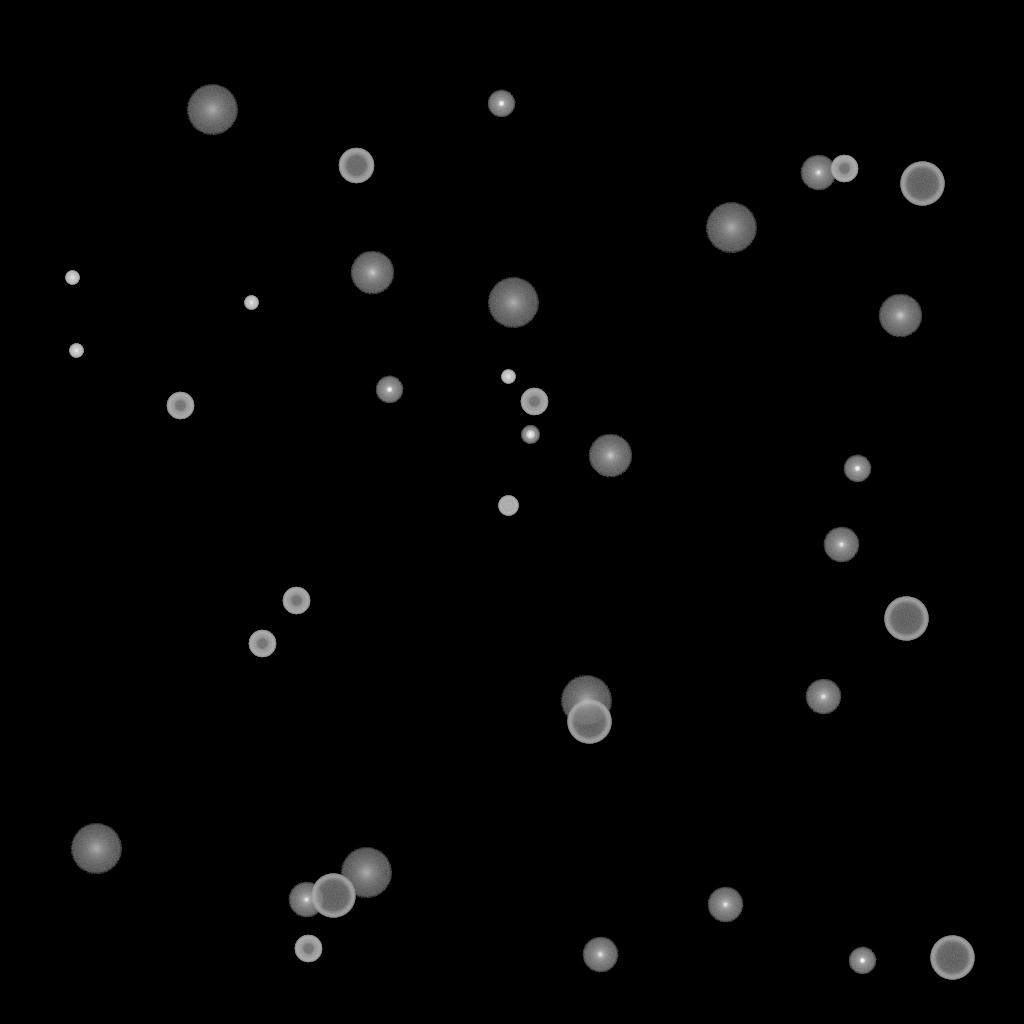depth:-10: (843, 455, 871, 483), (487, 90, 515, 118), (848, 947, 876, 975), (375, 376, 403, 404)
depth:-20: (521, 426, 539, 444)
depth:-30: (501, 370, 515, 384), (65, 271, 79, 285), (69, 344, 83, 358), (244, 296, 258, 310)
depth:-40: (498, 496, 518, 516)
depth:-50: (520, 388, 548, 416), (166, 392, 194, 420), (282, 587, 310, 615), (830, 155, 858, 183), (294, 935, 322, 963), (248, 630, 276, 658)
depth:-60: (338, 148, 374, 184)
depth:-70: (930, 936, 974, 980), (567, 700, 611, 744), (311, 874, 355, 918), (884, 597, 928, 641), (900, 162, 944, 206)
depth:0: (288, 882, 324, 918), (582, 937, 618, 973), (800, 155, 836, 191), (805, 679, 841, 715), (823, 527, 859, 563), (707, 887, 743, 923)
depth:10: (350, 251, 394, 295), (878, 294, 922, 338), (588, 434, 632, 478)
depth:20: (705, 203, 757, 253), (560, 676, 612, 726), (186, 85, 238, 135), (487, 278, 539, 328), (340, 848, 392, 898), (70, 824, 122, 874)
